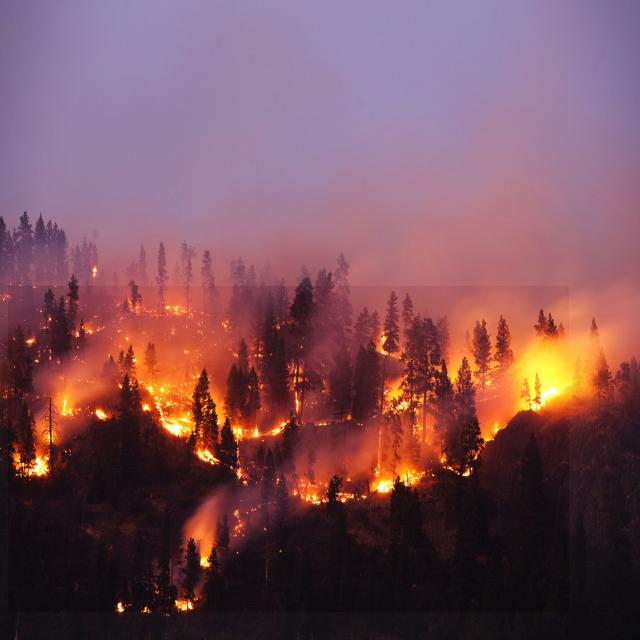Fire: (8, 286, 569, 612)
